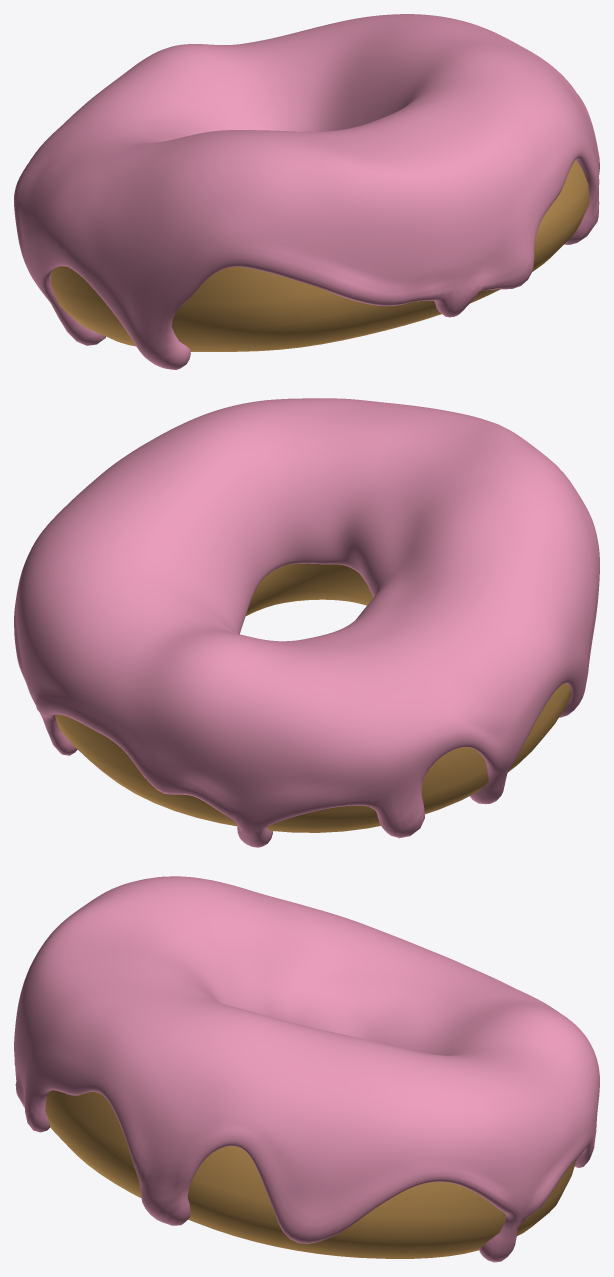
Rendered from Asset_pinkDonut.fbx.
3 renders of one model, top to bottom at view 1: azimuth 30°, elevation 25°; view 2: azimuth 150°, elevation 25°; view 3: azimuth 270°, elevation 25°, orthographic.
Parts seen in each view (by area): view 1: Donut.004; view 2: Donut.004; view 3: Donut.004.
Part boxes in pixels (left/top/right/bottom): Donut.004: left=14, top=14, right=599, bottom=369; Donut.004: left=14, top=398, right=599, bottom=847; Donut.004: left=14, top=876, right=599, bottom=1262.
Size of the model in its own units: 7.81 by 4.04 by 7.82.
